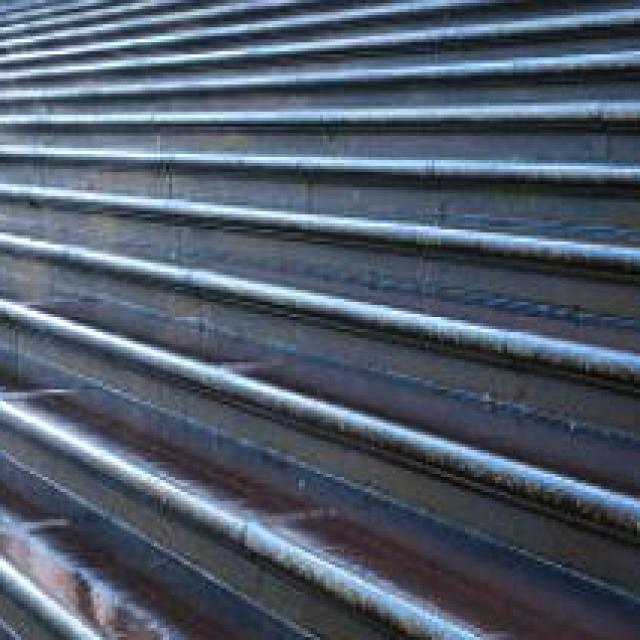upstair: (1, 25, 559, 538)
